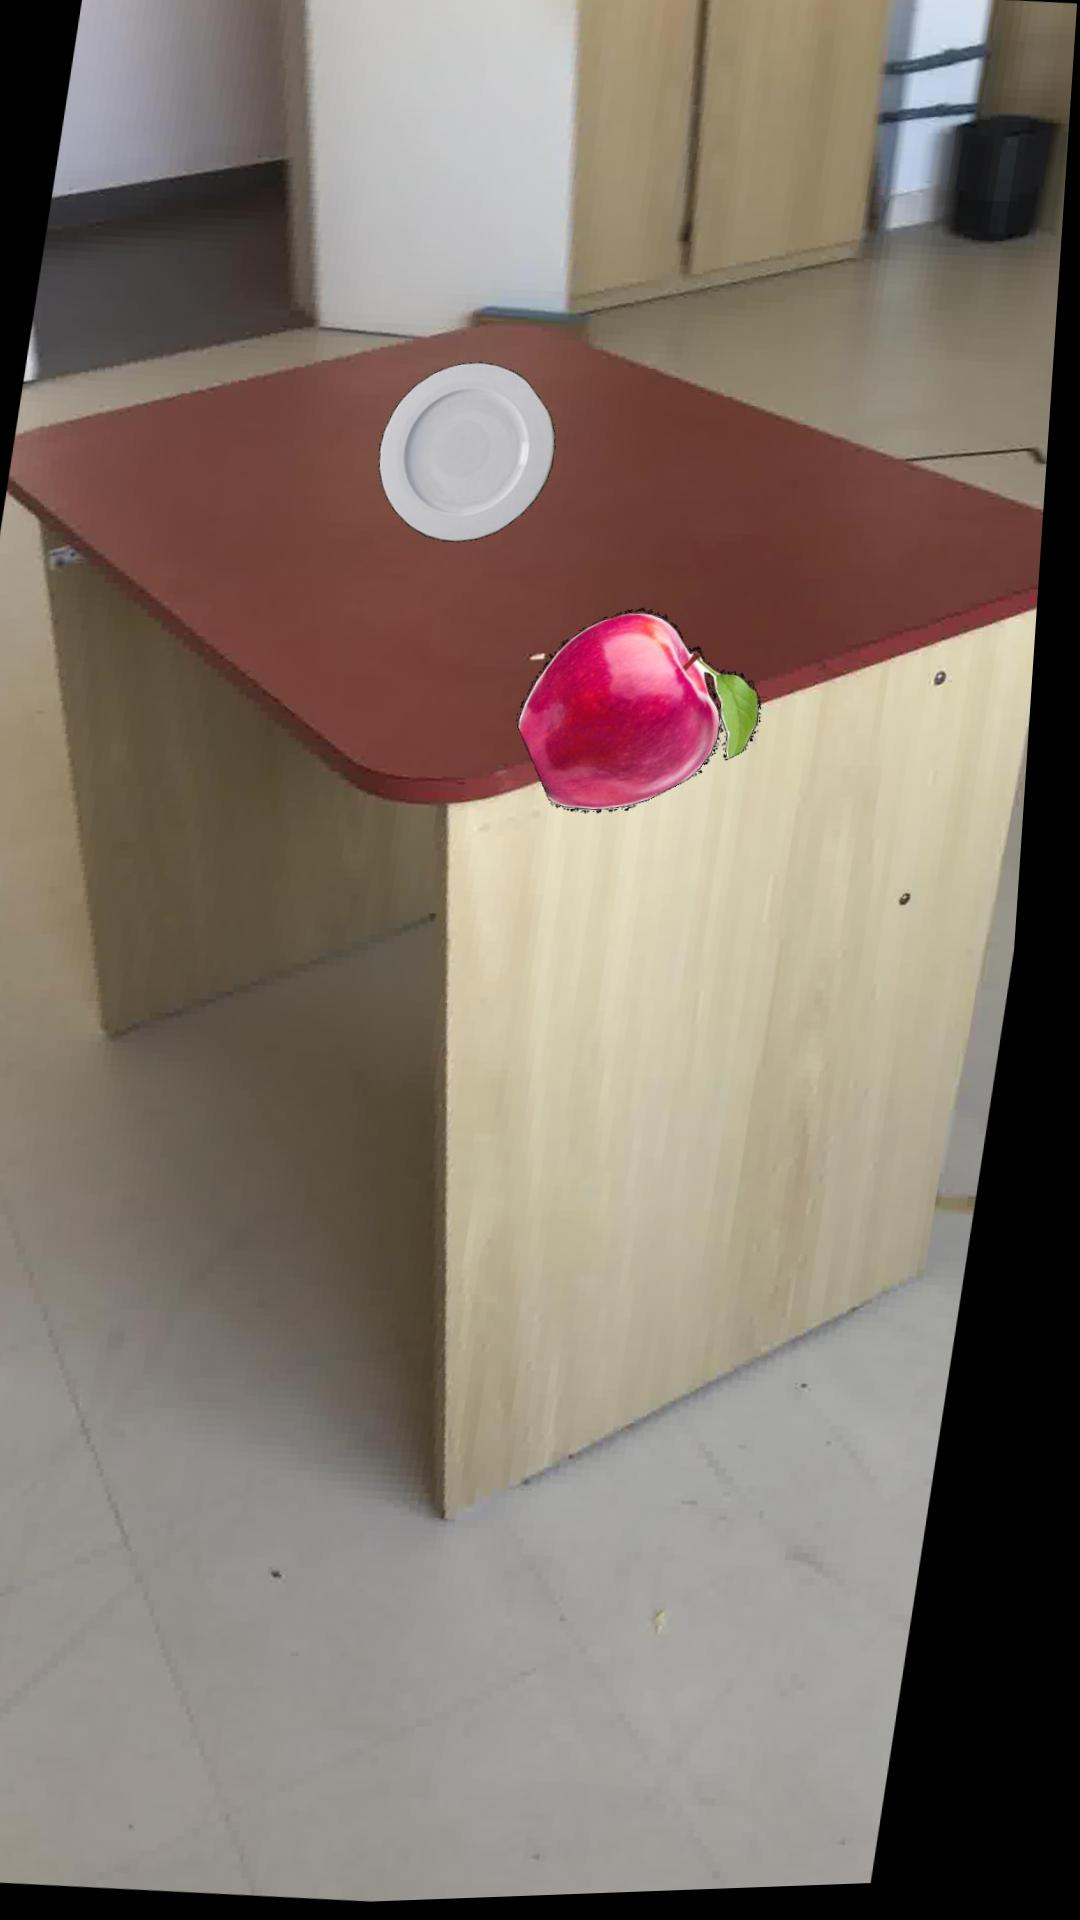apple: (526, 613, 770, 816)
plate: (384, 364, 560, 545)
